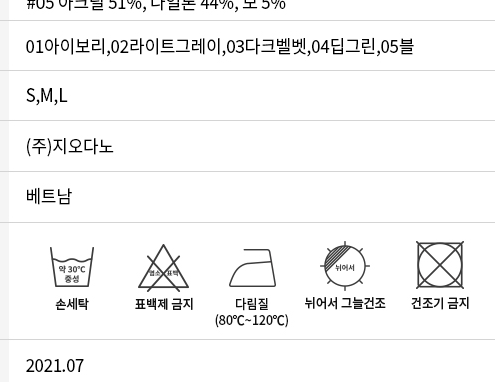KR_flat_dry_in_shade: (317, 238, 373, 290)
KR_hand_wash_30_neutral: (44, 241, 97, 292)
KR_no_chlorine_bleach: (135, 240, 194, 294)
KR_no_tumble_dry: (412, 236, 471, 292)
